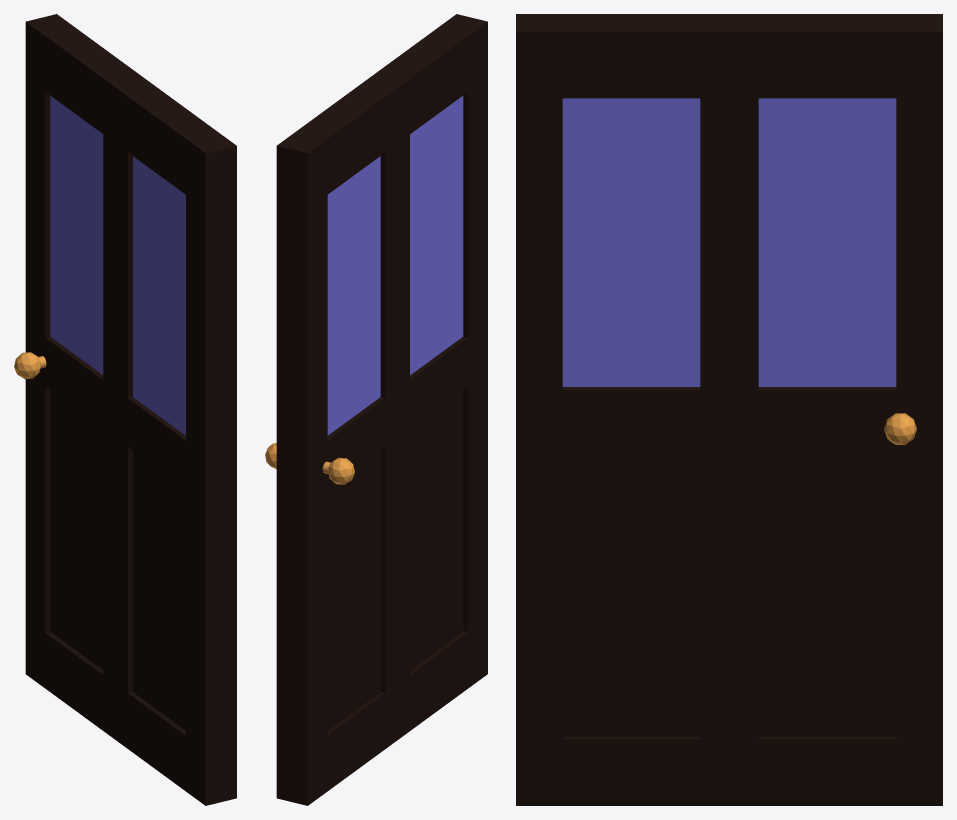
File: Door_2.fbx
3 renders of one model, left to right at view 1: azimuth 30°, elevation 25°; view 2: azimuth 150°, elevation 25°; view 3: azimuth 270°, elevation 25°, orthographic. The views are drawn at different scales.
Parts seen in each view (by area): view 1: Door_2; view 2: Door_2; view 3: Door_2.
Boxes of the visible parts, x1,y1,x2,y2 form: Door_2: [14, 14, 236, 805]; Door_2: [265, 14, 487, 805]; Door_2: [516, 14, 942, 805].
Bounding box in the file's own units: 27.47 × 200 × 100.
